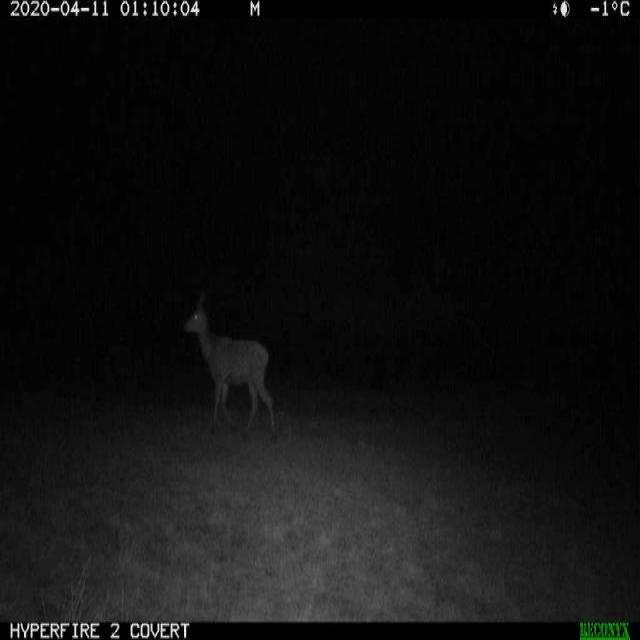deer: (175, 279, 280, 449)
